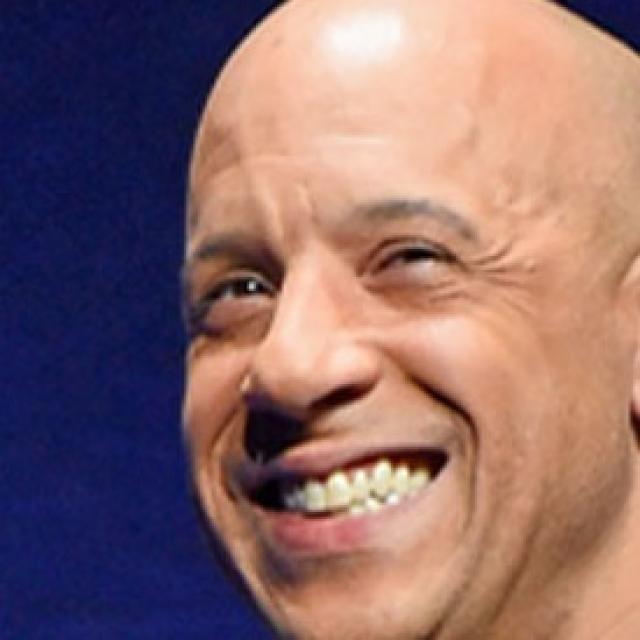Normal: (183, 0, 638, 638)
